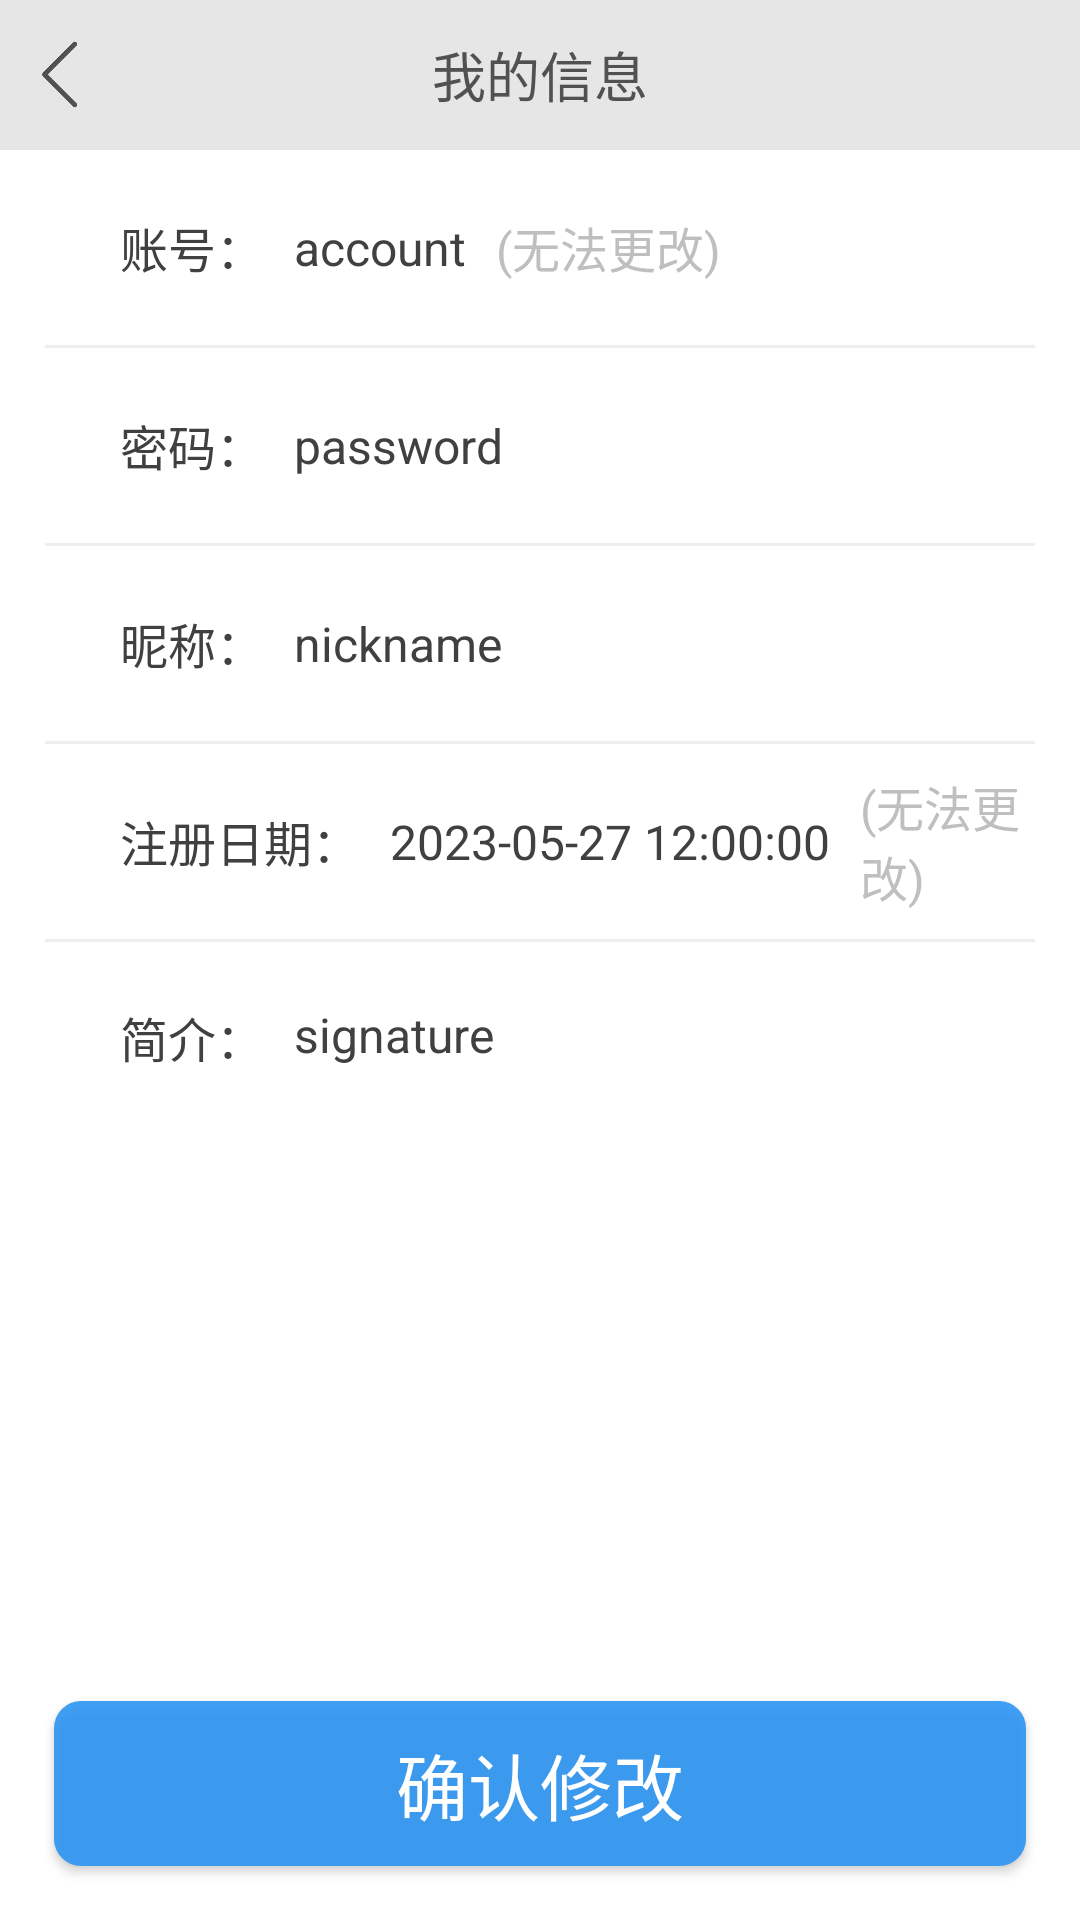

Icons on this 1080px x 1920px Android screen, each with its box as {"left": x1, "top": y1, "right": x2, "bottom": y2}:
back: {"left": 42, "top": 41, "right": 77, "bottom": 107}
